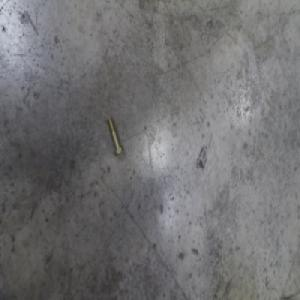Bolt: (106, 115, 124, 157)
